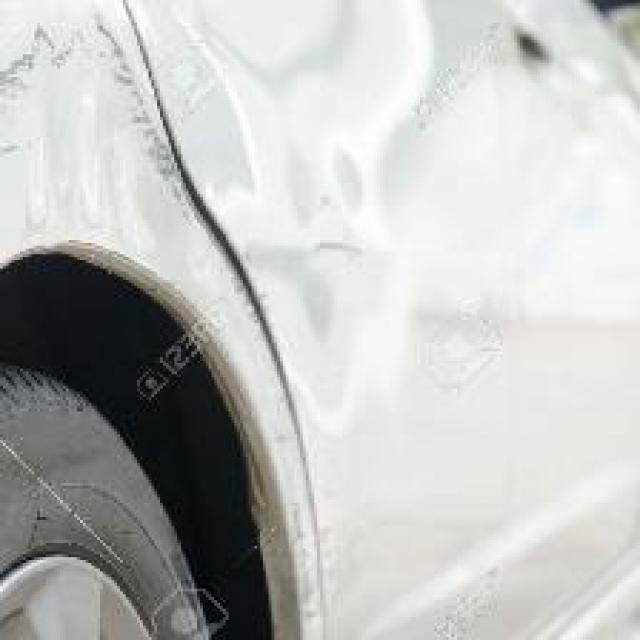damaged: (0, 0, 526, 429)
